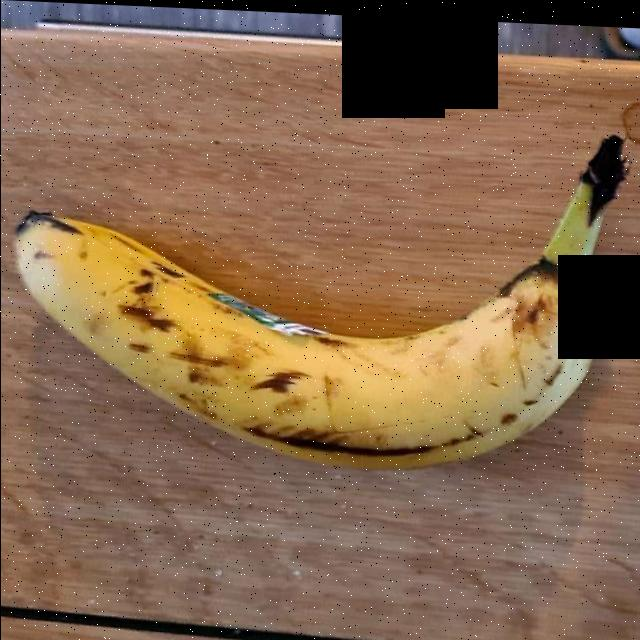banana: (22, 218, 582, 457)
